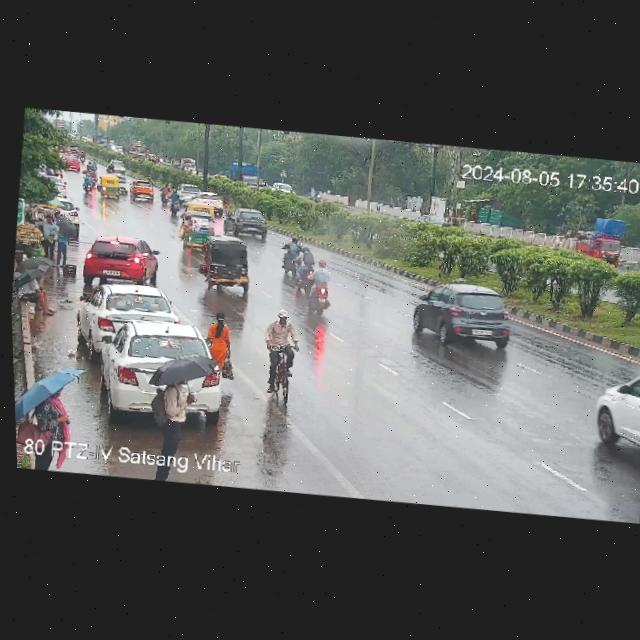car: (95, 306, 246, 428), (401, 260, 546, 359), (569, 303, 640, 477), (68, 273, 193, 371), (80, 226, 165, 291), (186, 229, 263, 294), (569, 208, 628, 267), (215, 199, 278, 246), (29, 191, 82, 241), (174, 208, 218, 253), (189, 184, 227, 218), (36, 164, 72, 198), (172, 172, 201, 210), (126, 176, 157, 208), (263, 172, 302, 195), (416, 210, 448, 226), (106, 157, 130, 177), (63, 152, 83, 173), (147, 148, 157, 162)
motorcycle: (254, 303, 305, 410), (298, 253, 348, 318), (290, 236, 327, 288), (277, 228, 311, 278), (166, 187, 184, 219), (78, 169, 97, 195), (159, 182, 174, 206), (102, 158, 120, 176), (437, 214, 459, 227), (286, 185, 308, 194), (312, 189, 326, 203), (157, 150, 167, 165), (184, 163, 192, 172)
person: (136, 346, 224, 454), (13, 356, 97, 440), (199, 298, 245, 369), (19, 252, 68, 317), (10, 263, 61, 320), (46, 214, 80, 260), (36, 213, 63, 259)
truck: (225, 156, 267, 189), (123, 137, 148, 161), (176, 154, 198, 173), (92, 131, 112, 149)
